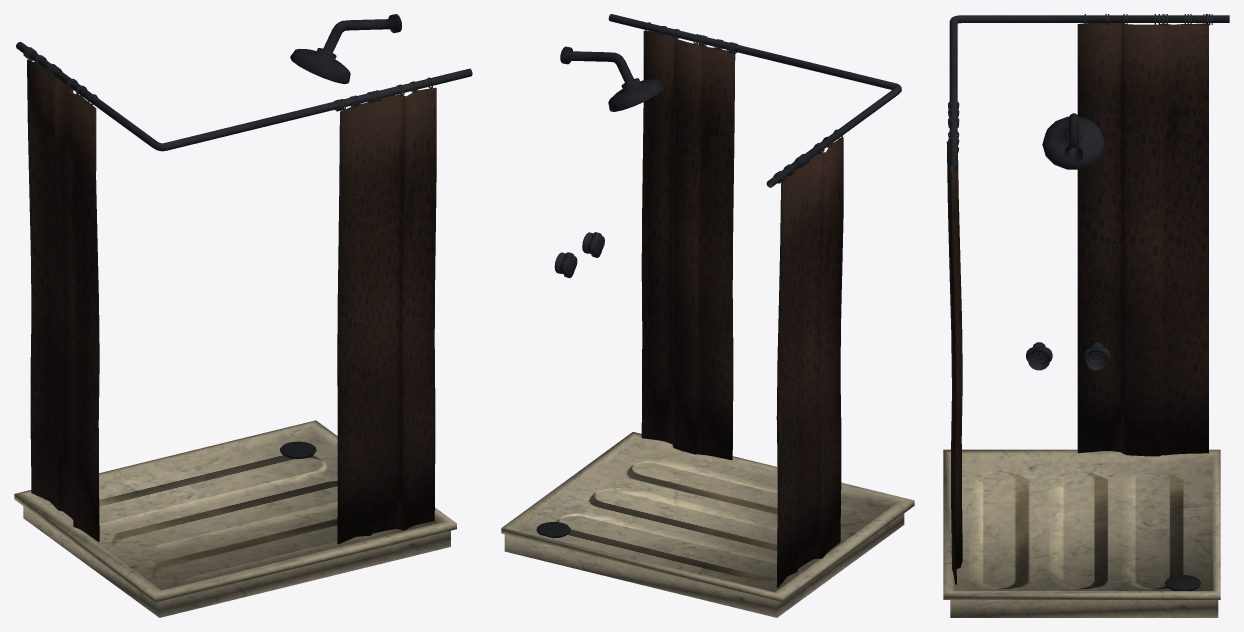
Rendered from FPH_Shower.fbx.
The picture shows the model from 3 angles, left to right: view 1: azimuth 30°, elevation 25°; view 2: azimuth 150°, elevation 25°; view 3: azimuth 270°, elevation 25°; orthographic projection. The views are drawn at different scales.
Parts seen in each view (by area): view 1: FPH_Shower; view 2: FPH_Shower; view 3: FPH_Shower.
Boxes of the visible parts, x1,y1,x2,y2 form: FPH_Shower: [14, 14, 472, 617]; FPH_Shower: [501, 14, 914, 617]; FPH_Shower: [943, 14, 1229, 617].
Bounding box in the file's own units: 7.1 × 10.39 × 5.59.
1 material, 1 textured.
